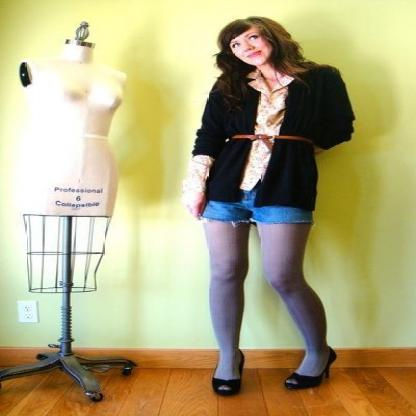jacket: (193, 66, 354, 218)
shirt: (240, 96, 284, 191)
shoe: (212, 358, 335, 396)
shorts: (198, 192, 304, 224)
